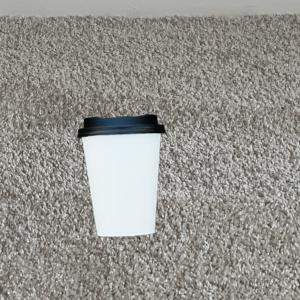cup: (77, 114, 165, 240)
